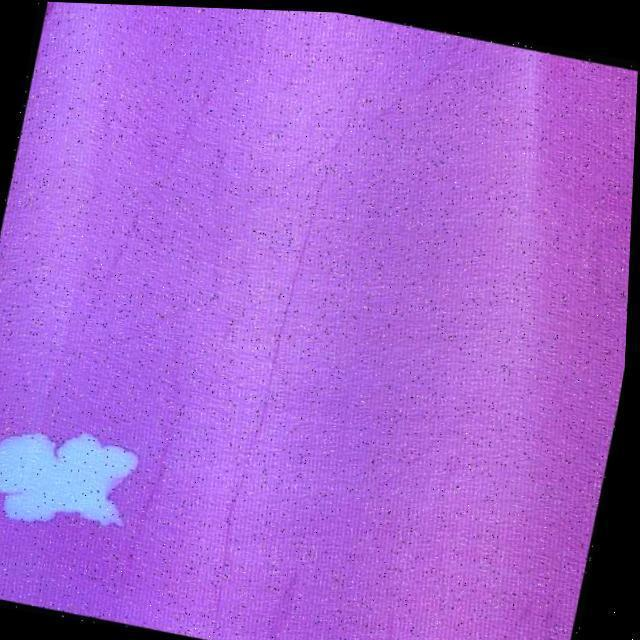pulled_or_thick_thread: (216, 20, 397, 573)
